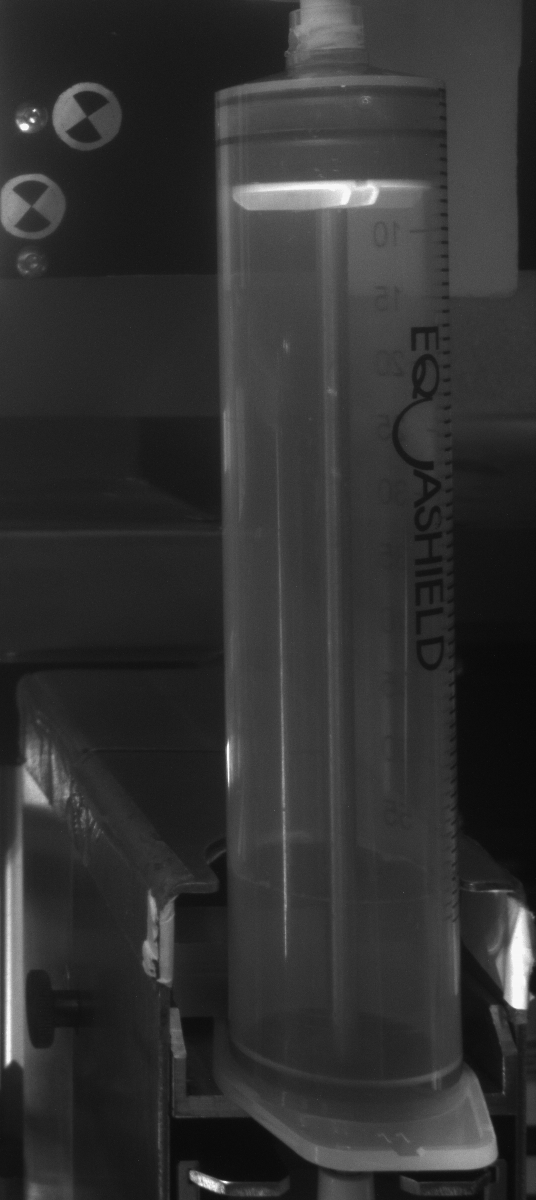piston: (215, 107, 449, 213)
